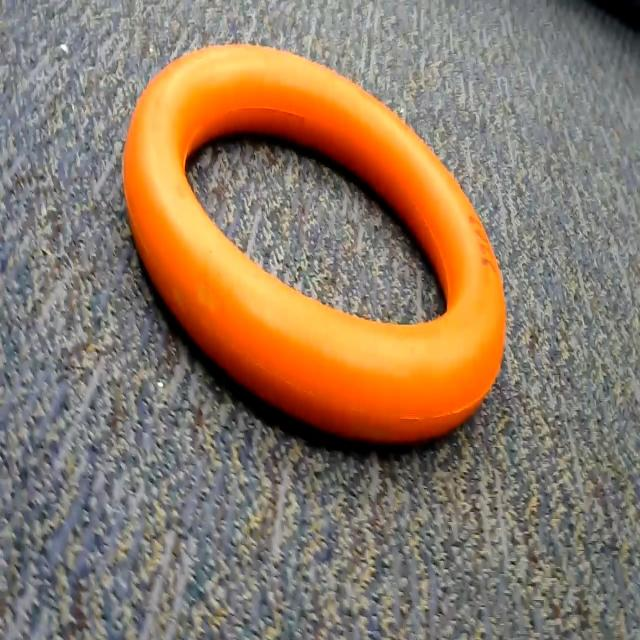note: (108, 32, 526, 468)
